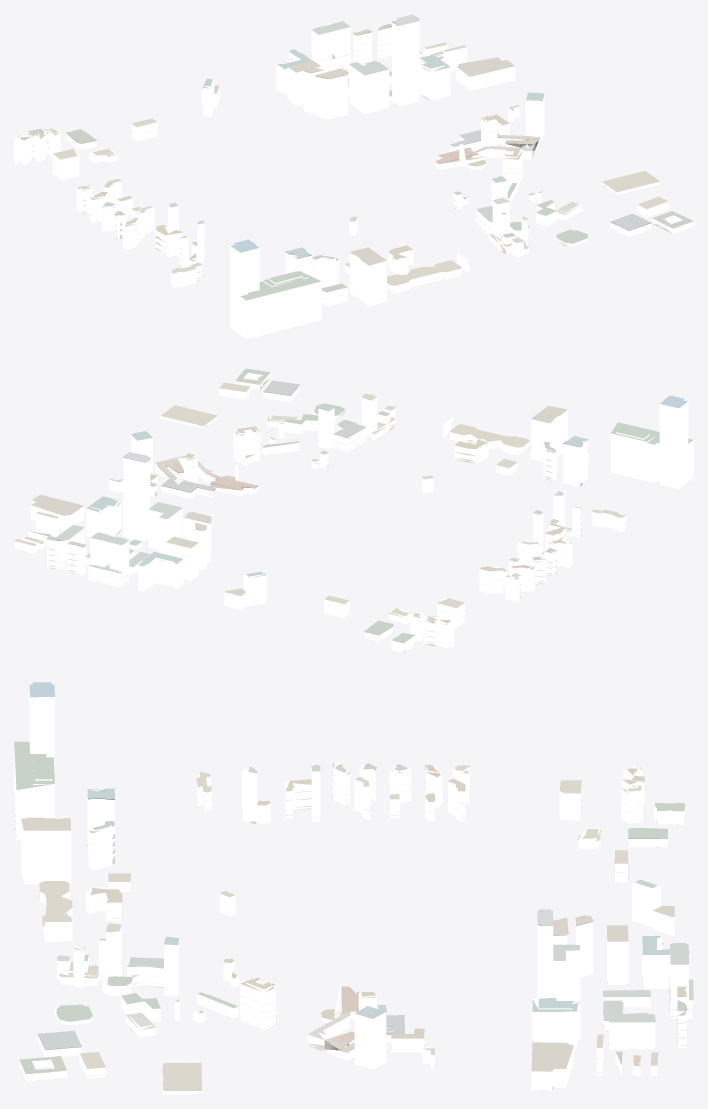
The model's file is buildings--10_0-coarse.glb.
3 views of the same model, one above another, from view 1: azimuth 30°, elevation 25°; view 2: azimuth 150°, elevation 25°; view 3: azimuth 270°, elevation 25° (orthographic). The views are drawn at different scales.
Visible parts, largest first — view 1: block_-10_0_office, block_-10_0_residential, block_-10_0_roof; view 2: block_-10_0_office, block_-10_0_residential, block_-10_0_roof; view 3: block_-10_0_office, block_-10_0_residential, block_-10_0_roof.
Part boxes in pixels (x1,y1,x2,y2): block_-10_0_office: (168,20,544,339); block_-10_0_residential: (14,27,693,306); block_-10_0_roof: (16,14,693,303); block_-10_0_office: (30,395,693,609); block_-10_0_residential: (14,372,626,653); block_-10_0_roof: (14,368,692,653); block_-10_0_office: (14,685,689,1090); block_-10_0_residential: (19,763,693,1094); block_-10_0_roof: (14,682,693,1094).
Bounding box in the file's own units: 691 × 121 × 657.
